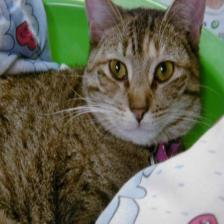cat: (78, 2, 210, 149)
